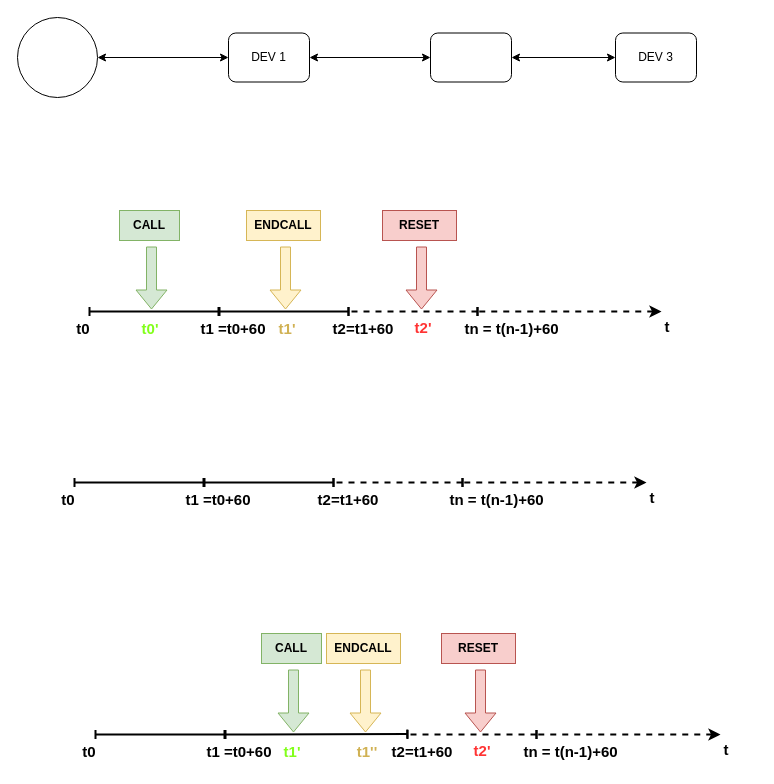
This 774x784 diagram has some shape labels left out. The shapes that lost their labels are listed below. From the top down, each one's centre as x and y in pixels, then its label:
At point 57,57: "GW".
At point 471,57: "DEV 2".
